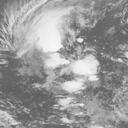cyclone: (33, 29, 100, 94)
